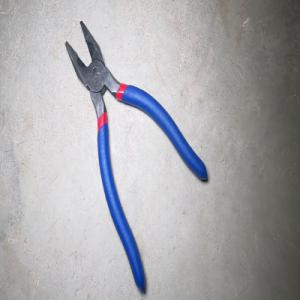Pliers: (64, 20, 208, 293)
